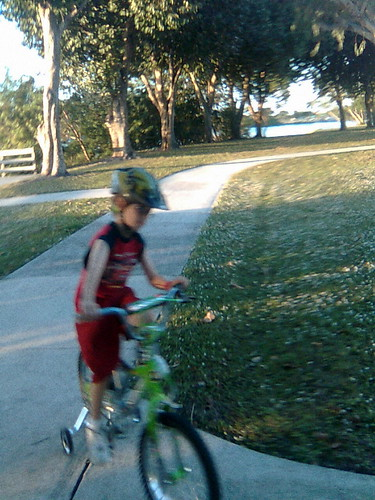helmet: (104, 163, 164, 192)
